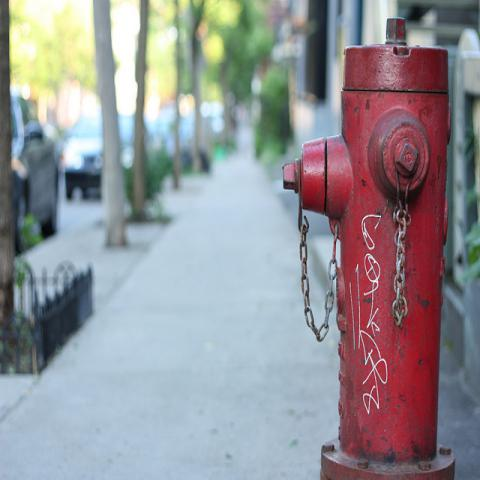car: (6, 92, 60, 256), (117, 112, 167, 200), (63, 115, 104, 202)
